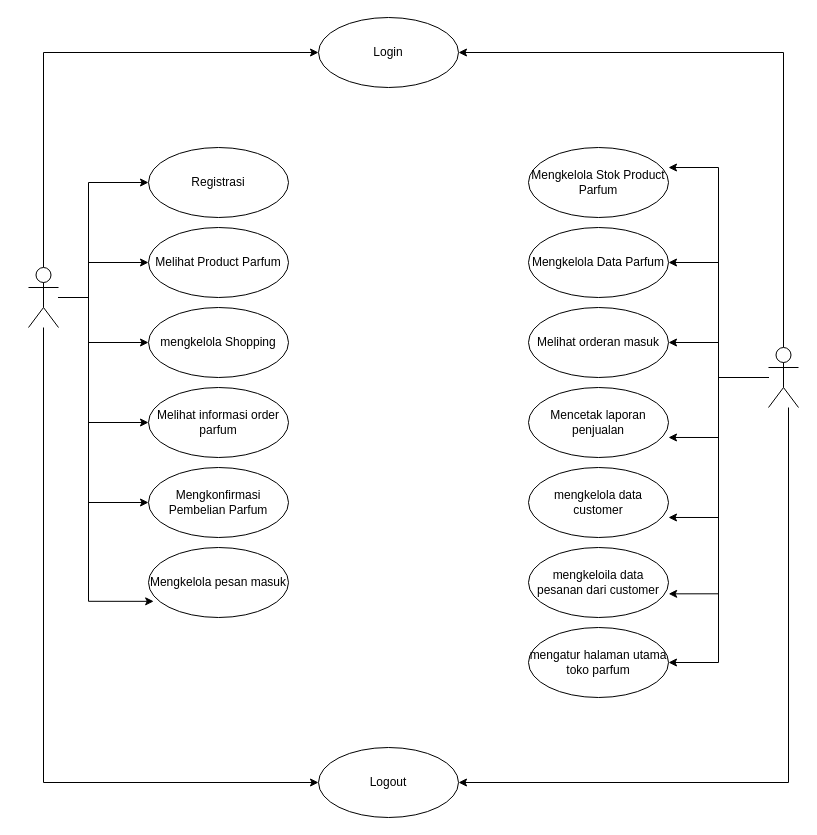
Image size: 817x835. Some labels were removed from this diagram. The centre of each missing label's shape, as x and y in pixels:
Admin: pixel 783 377
Customer: pixel 43 297
